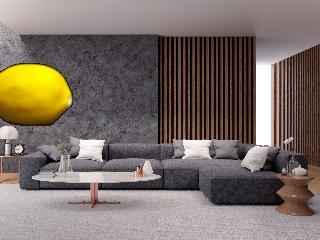lemon: (1, 64, 73, 126)
